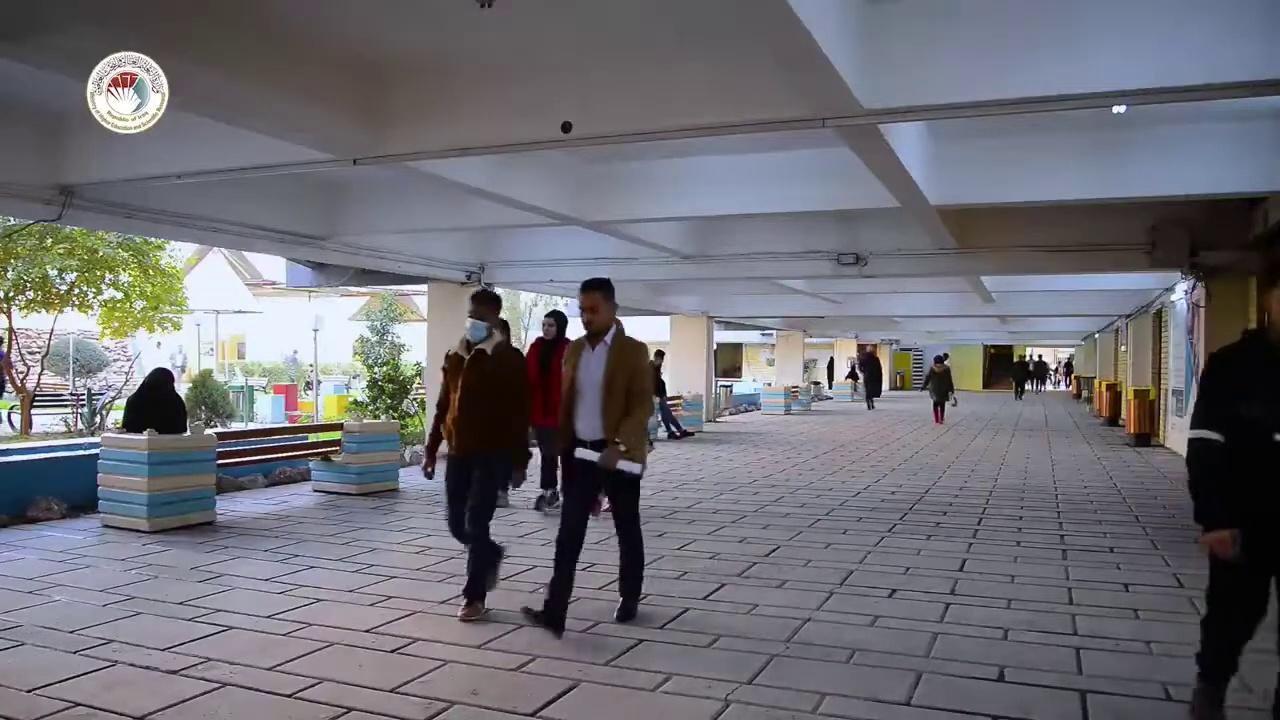person: (520, 276, 655, 639), (1184, 219, 1279, 718), (0, 214, 191, 435), (420, 288, 532, 621), (524, 308, 572, 512), (121, 366, 188, 434), (648, 348, 695, 439), (919, 353, 955, 424), (858, 345, 882, 410), (168, 344, 188, 383), (1013, 360, 1032, 395), (844, 360, 860, 398), (1034, 355, 1050, 388), (1058, 357, 1072, 387), (826, 355, 834, 389)
tree: (343, 289, 426, 463), (499, 288, 562, 354), (44, 333, 110, 389), (182, 367, 235, 431)
